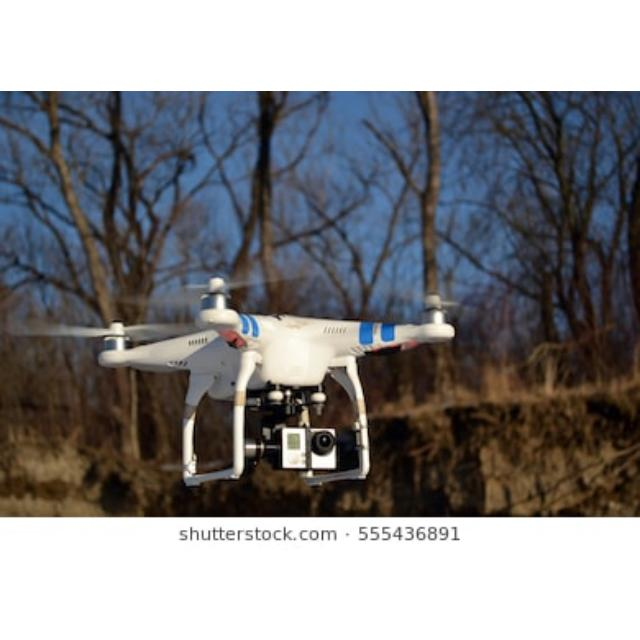Drones: (99, 283, 443, 485)
